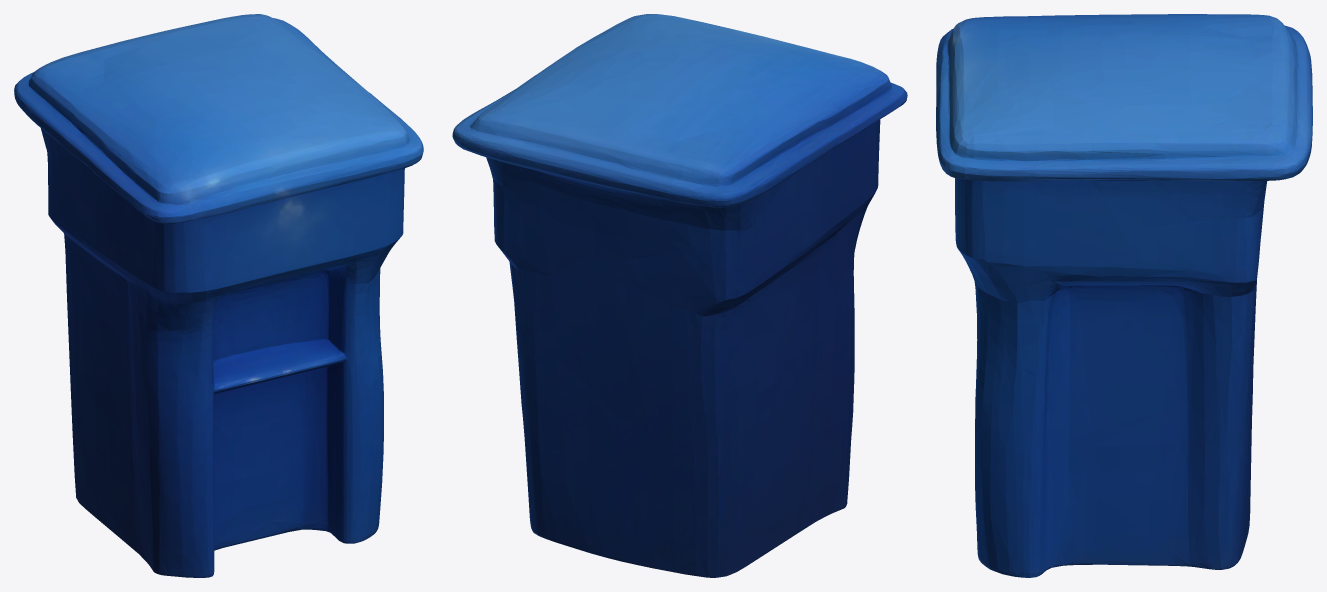
File: trash_bin_blue.glb
3 views of the same model, side by side, from view 1: azimuth 30°, elevation 25°; view 2: azimuth 150°, elevation 25°; view 3: azimuth 270°, elevation 25° (orthographic). The views are drawn at different scales.
Visible parts, largest first — view 1: geometry_0; view 2: geometry_0; view 3: geometry_0.
Part boxes in pixels (x1,y1,x2,y2): geometry_0: [14, 14, 423, 577]; geometry_0: [452, 14, 907, 577]; geometry_0: [936, 14, 1312, 577].
Size of the model in its own units: 0.7107 by 0.9993 by 0.7404.
Materials: 1 (1 with a texture image).
